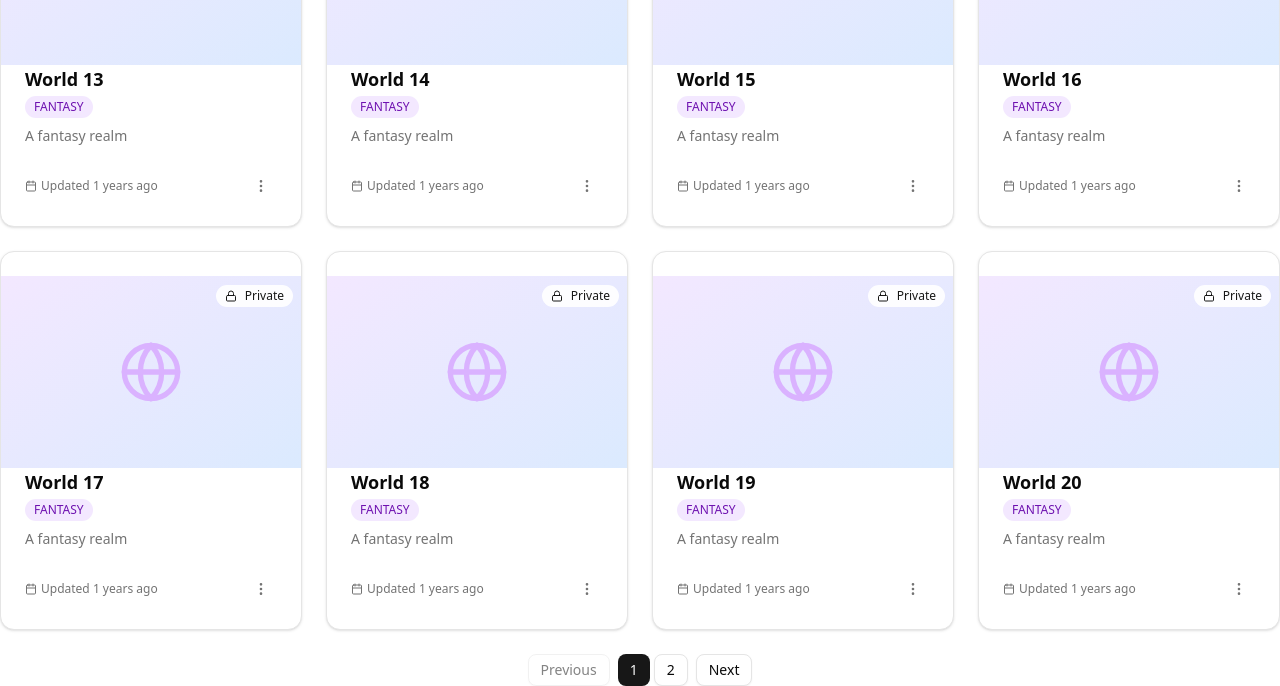
Test: WorldsList › Pagination › navigates to next page
(page scrolled)
Click the button "Next": (724, 670) [696,654,752,685]
(page scrolled)
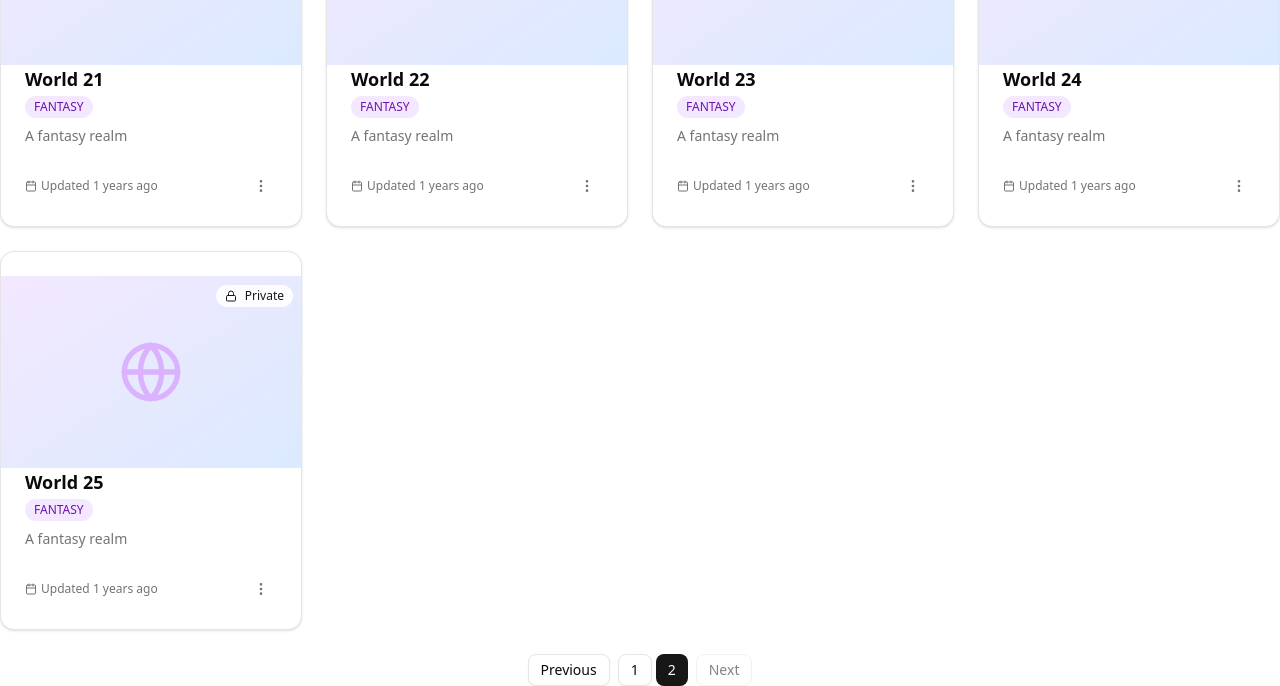
expect the heading "World 21" is shown: met, box [25,67,104,91]
expect the heading "World 25" is shown: met, box [25,470,104,494]
expect the link "World 1" is gone: met
